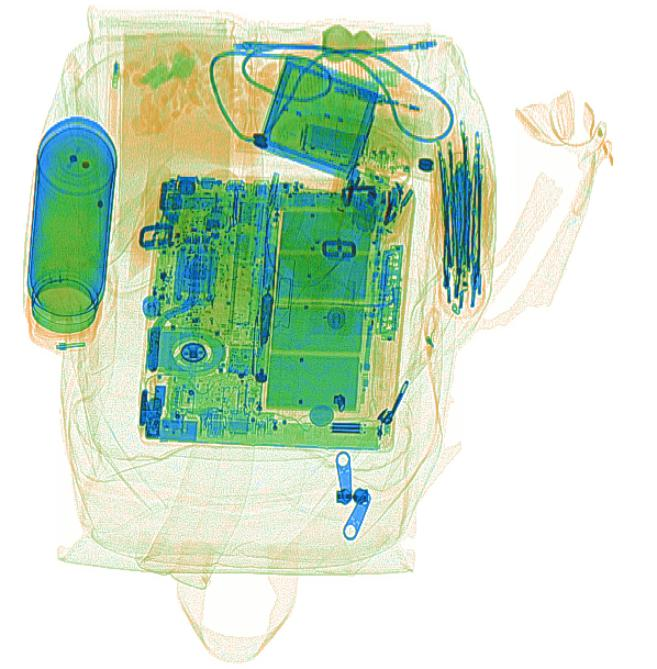battery: (301, 122, 372, 159)
